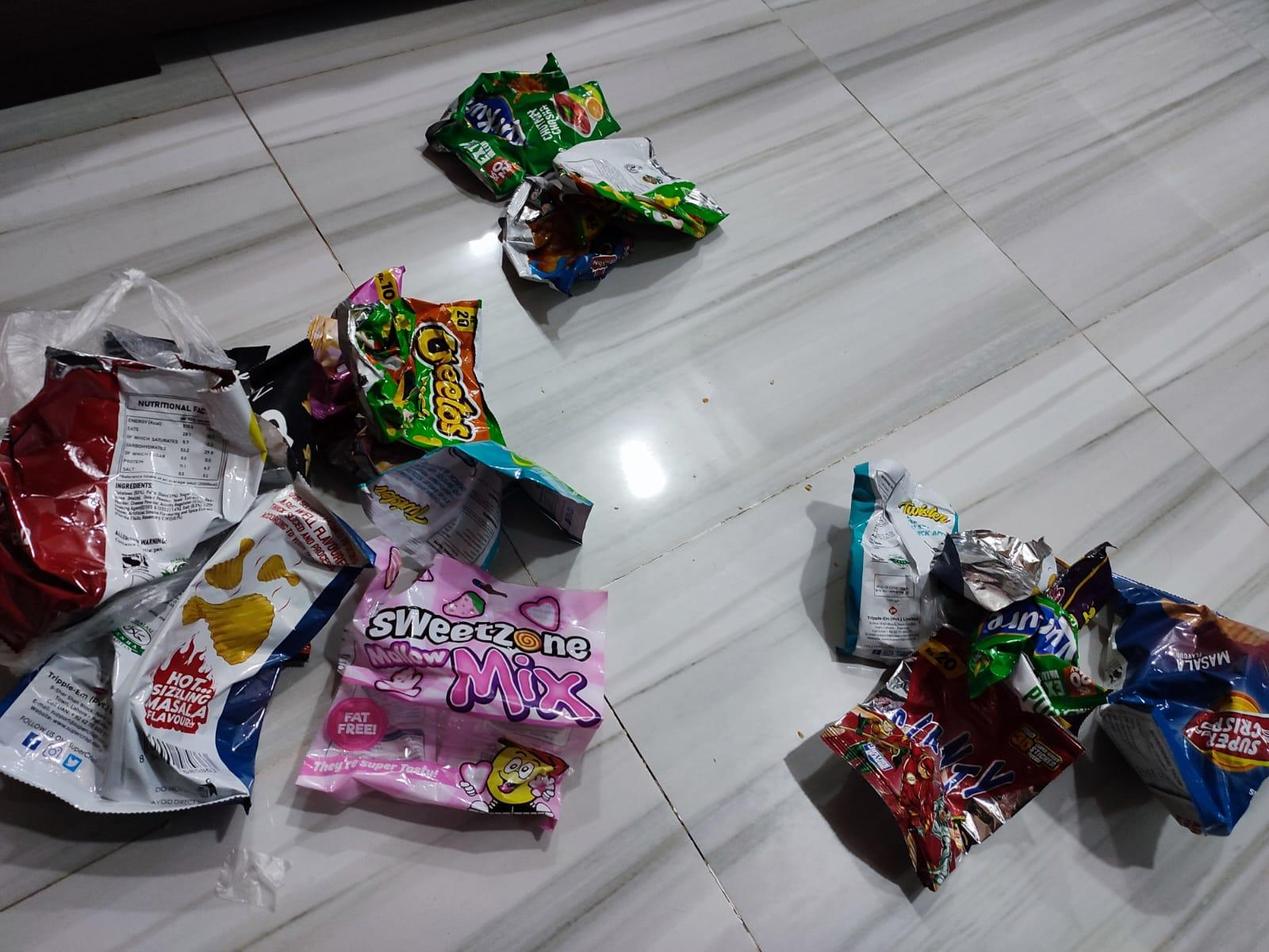garbage: (1, 292, 617, 870), (790, 439, 1269, 886), (409, 32, 721, 295)
